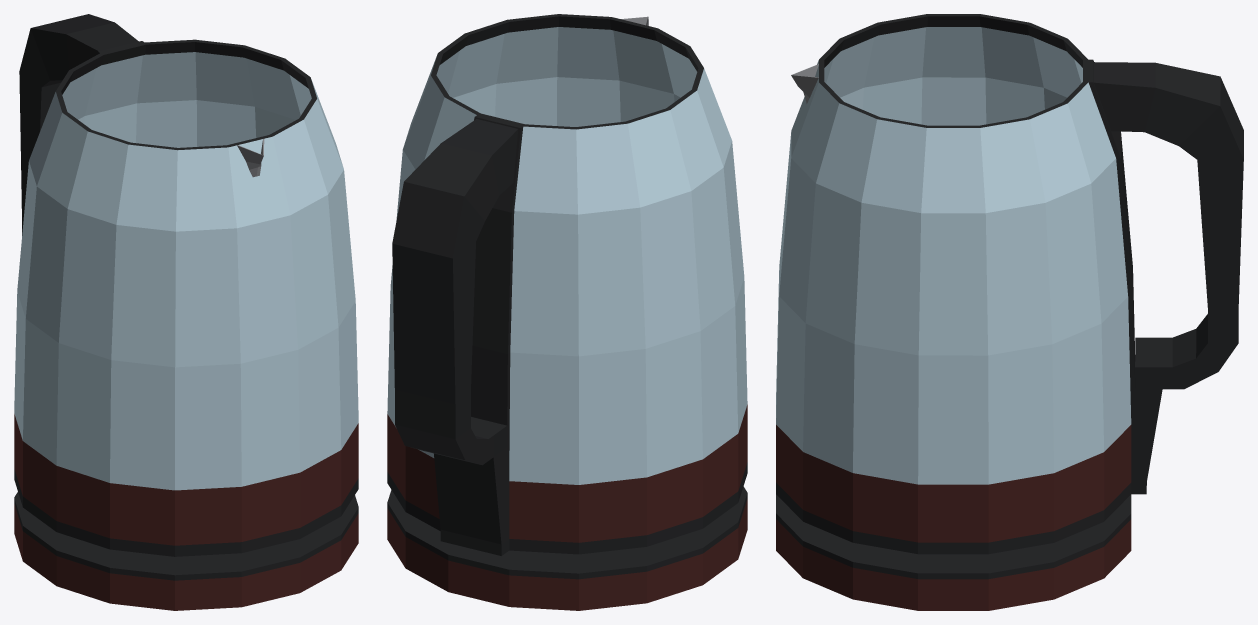
File: kettlemodern_01_C.gltf
3 views of the same model, side by side, from view 1: azimuth 30°, elevation 25°; view 2: azimuth 150°, elevation 25°; view 3: azimuth 270°, elevation 25° (orthographic). The views are drawn at different scales.
Visible parts, largest first — view 1: kettlemodern_01_C, Electrickettlemodern_01_C; view 2: kettlemodern_01_C, Electrickettlemodern_01_C; view 3: kettlemodern_01_C, Electrickettlemodern_01_C.
Part boxes in pixels (left/top/right/bottom): kettlemodern_01_C: left=14, top=14, right=358, bottom=556; Electrickettlemodern_01_C: left=14, top=492, right=358, bottom=610; kettlemodern_01_C: left=387, top=14, right=747, bottom=555; Electrickettlemodern_01_C: left=387, top=486, right=747, bottom=610; kettlemodern_01_C: left=776, top=14, right=1243, bottom=554; Electrickettlemodern_01_C: left=776, top=494, right=1131, bottom=610.
Size of the model in its own units: 0.1717 by 0.2485 by 0.2261.
Materials: 1 (1 with a texture image).
